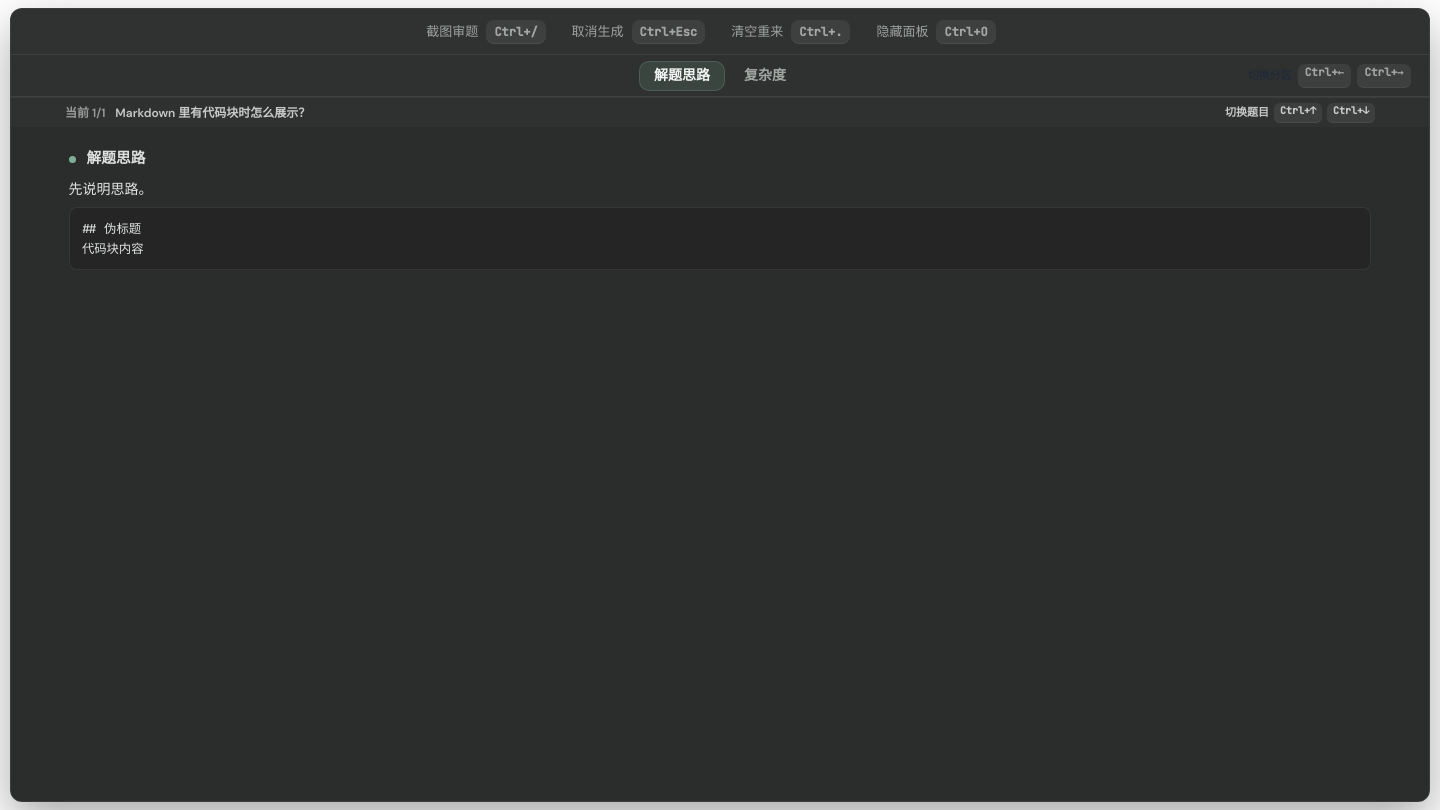
InterviewOverlay › keeps tilde fenced code headings out of focus tabs
Click the button "复杂度".
click(765, 76)  # box top-left (729, 60), bottom-right (801, 90)
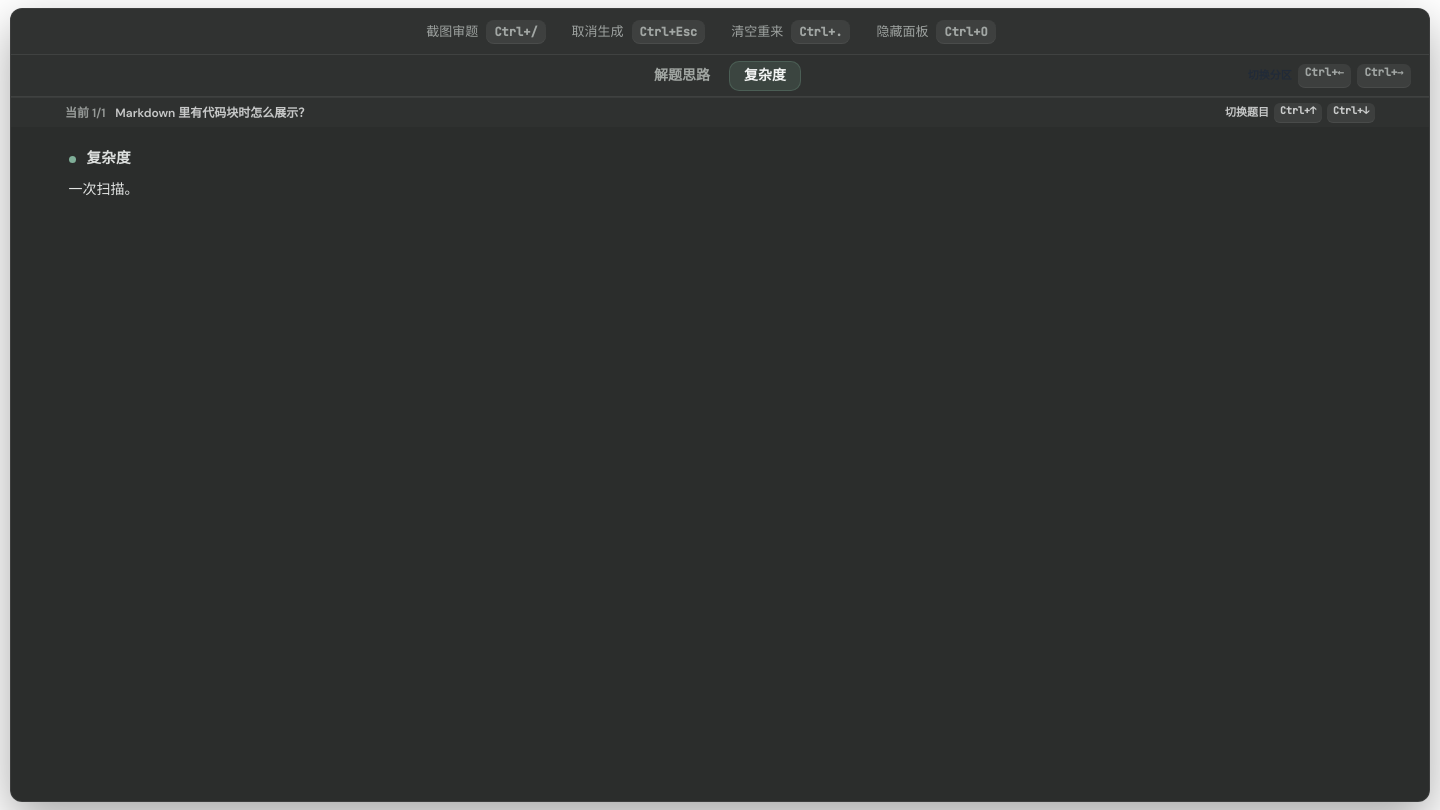
Expected: the heading "复杂度" is shown, top-left (87, 148), bottom-right (131, 168)
Expected: the text "一次扫描。" is shown, top-left (69, 180), bottom-right (139, 198)
